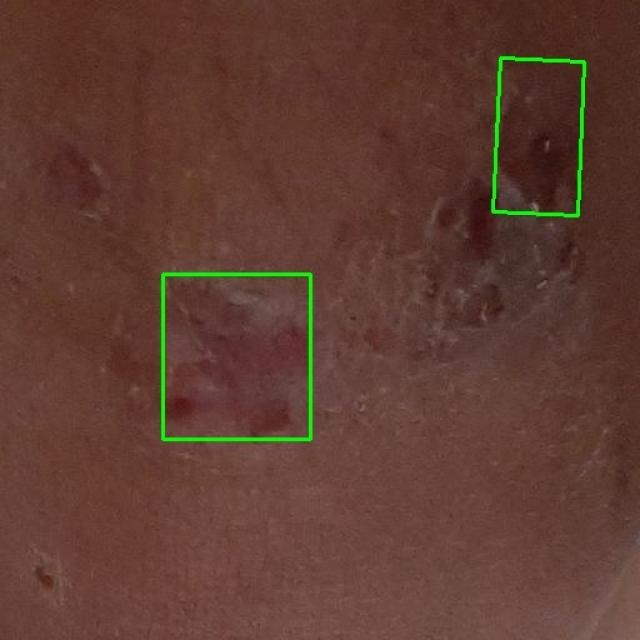Contact Dermatitis: (162, 274, 310, 439), (493, 58, 585, 215)
